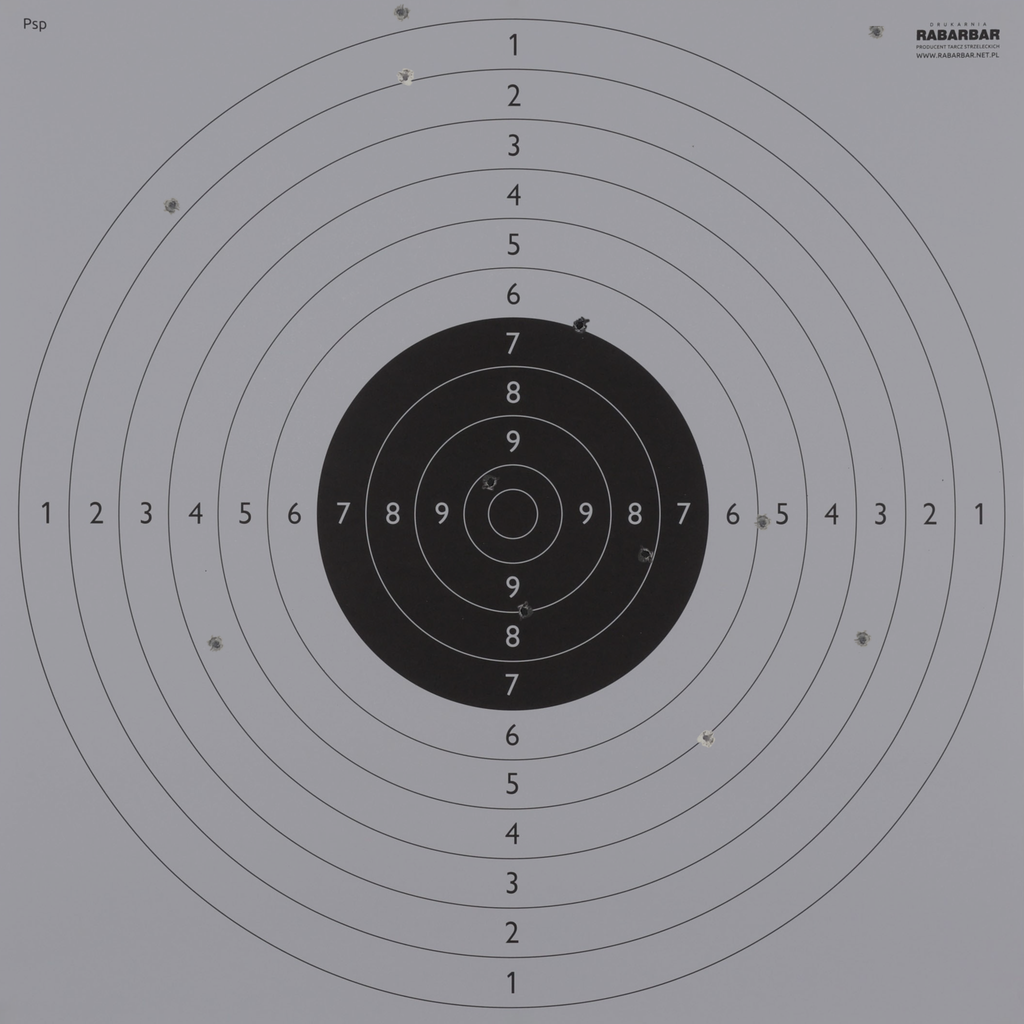0 punktow: (867, 22, 886, 41)
1 punkt: (163, 196, 181, 215)
10 punktow: (481, 473, 500, 492)
2 punkty: (396, 68, 415, 86)
3 punkty: (853, 630, 872, 649)
4 punkty: (207, 635, 225, 653)
5 punktow: (697, 729, 716, 747)
6 punktow: (753, 514, 772, 532)
7 punktow: (571, 316, 589, 335)
8 punktow: (637, 545, 655, 563)
9 punktow: (515, 602, 533, 620)
